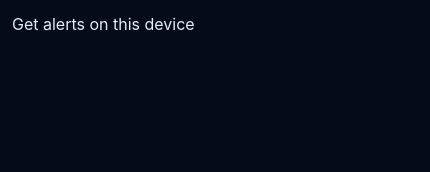
Test case: web push in the browser (47, 61) › the toggle shows the failure instead of failing silently
Click the button "Get alerts on this device": {"x": 103, "y": 24} [12,12,195,36]
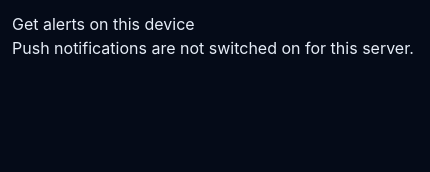
Check: the message shows "not switched on", box [12,38,414,58]
